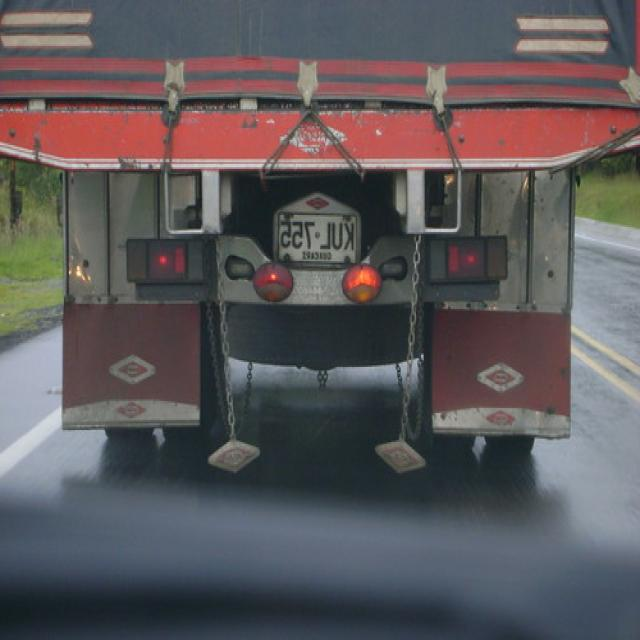placas: (277, 219, 355, 253)
